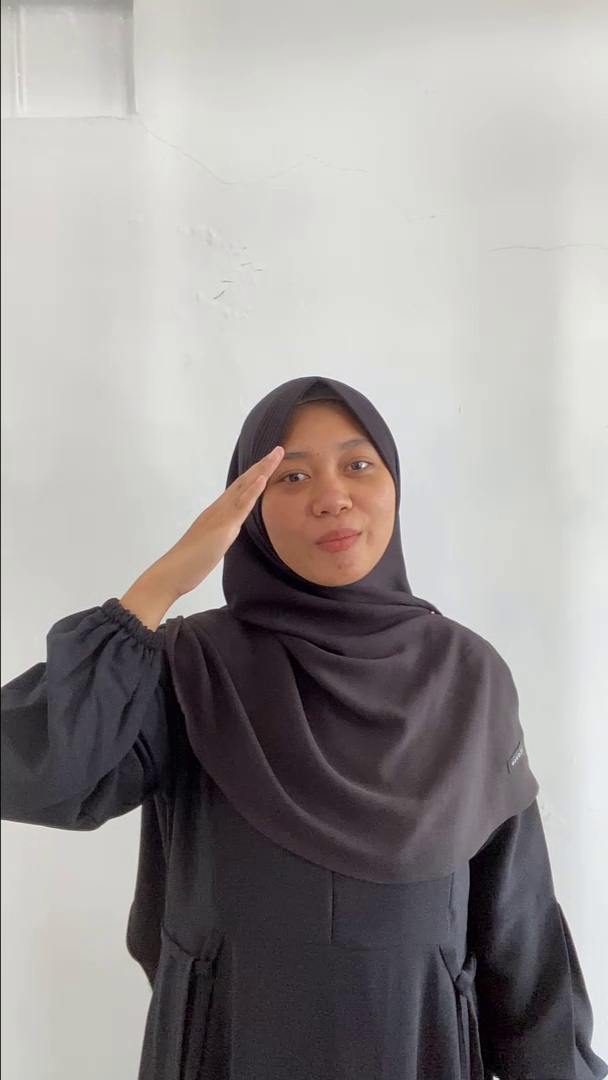SENIN: (120, 440, 293, 648)
